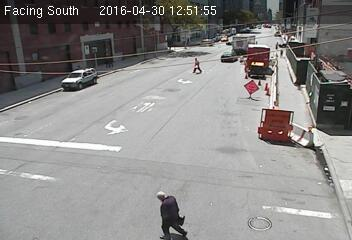neg: (317, 78, 333, 100), (143, 81, 157, 99), (162, 119, 176, 137), (320, 27, 334, 45), (102, 100, 114, 115), (267, 115, 277, 129)
pos: (149, 187, 185, 236), (189, 55, 203, 74), (102, 52, 113, 67), (277, 47, 286, 59), (273, 38, 281, 49)
